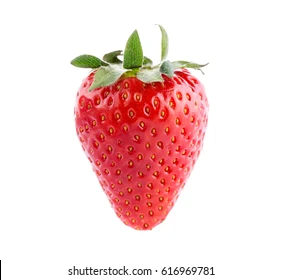food_waste: (67, 27, 215, 229)
